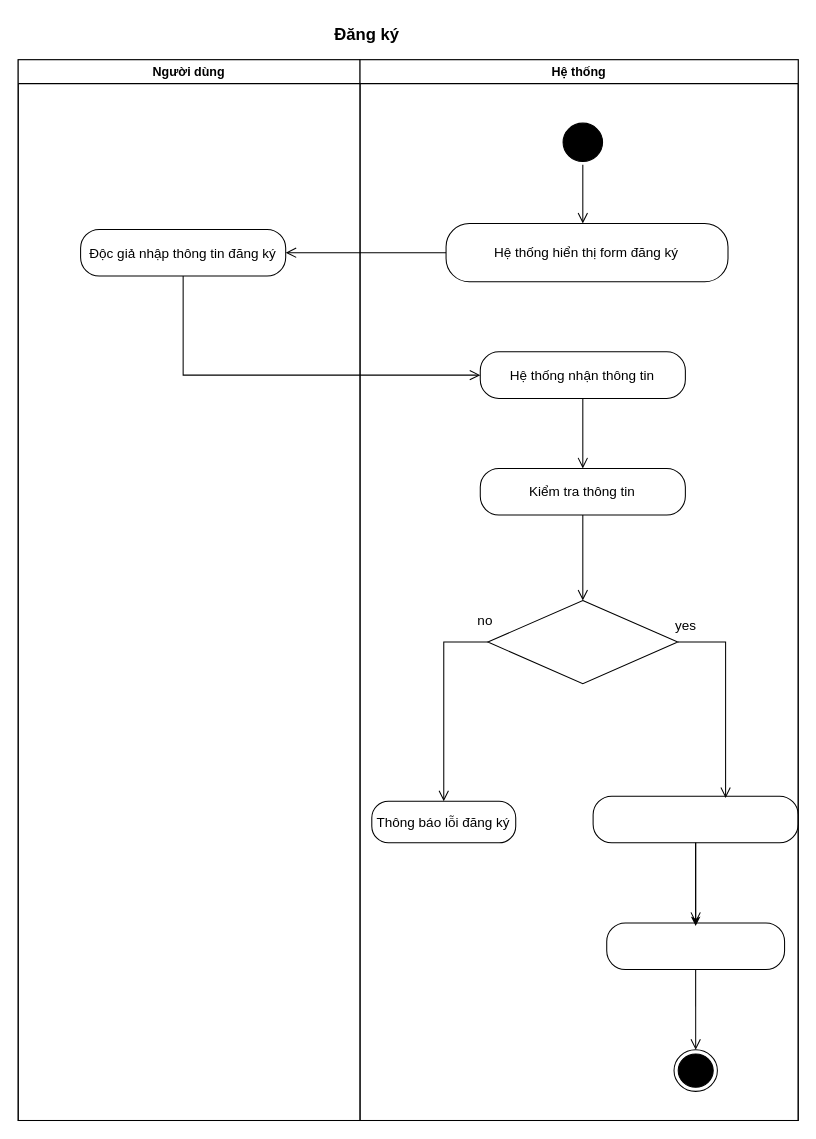
The diagram is 816 pixels wide and 1139 high, and some of its shapes have lost their labels. Here are the shapes that lost their labels. From the top down, the centre of each, then its label:
At point (582, 641): "Thông tin hợp lệ?".
At point (695, 819): "Thông báo đăng ký thành công".
At point (695, 945): "Lưu thông tin vào Database".
